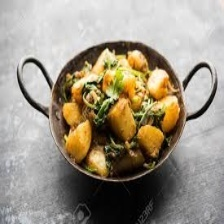sabzi: (56, 46, 182, 178)
